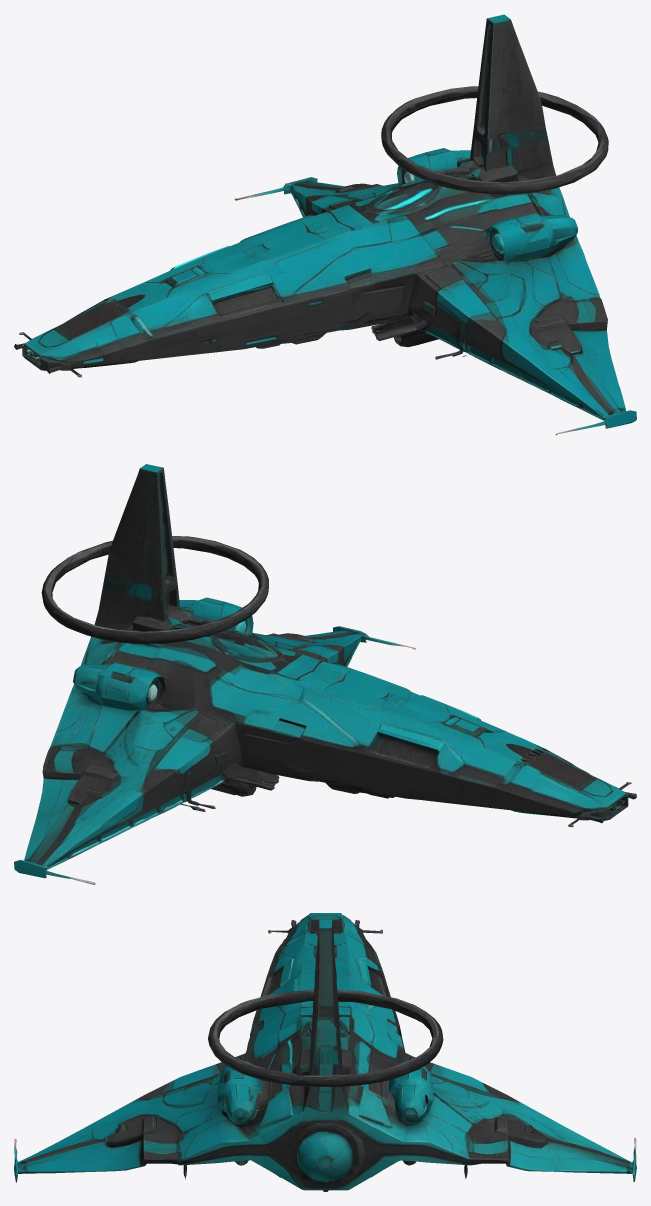
The model's file is enemy-uranus-capital.glb.
3 views of the same model, one above another, from view 1: azimuth 30°, elevation 25°; view 2: azimuth 150°, elevation 25°; view 3: azimuth 270°, elevation 25° (orthographic). The views are drawn at different scales.
Bounding box in the file's own units: 1.9 × 0.9101 × 1.89.
1 material, 1 textured.
